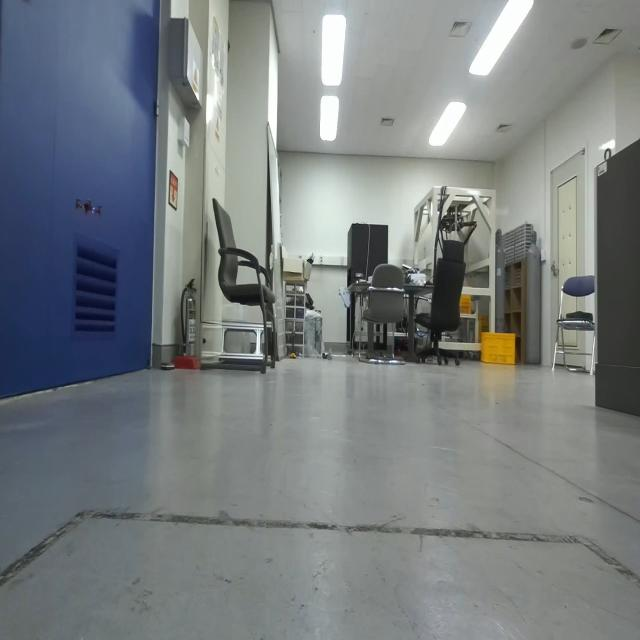crazyflie: (74, 188, 108, 224)
